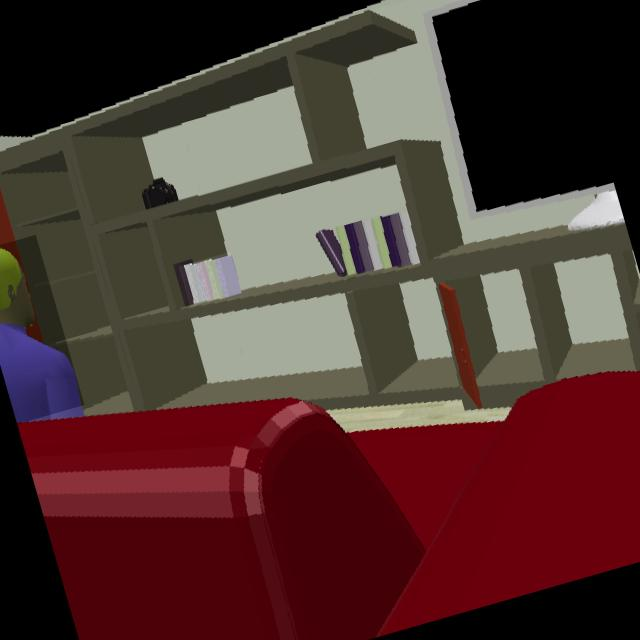book: (335, 214, 418, 274), (180, 254, 241, 305)
bookshelf: (0, 10, 640, 416)
person: (0, 248, 82, 424)
sofa: (17, 370, 640, 640)
